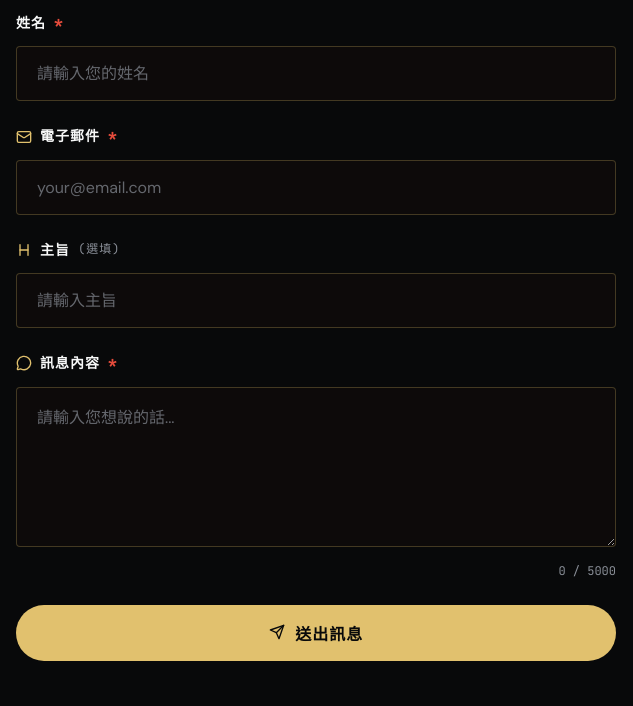
Test: ContactForm › 表單驗證 › 無效的 email 格式應該顯示錯誤
Step 1. Type "測試者" into the field with id "name" → [316, 74], box left=16, top=46, right=616, bottom=101
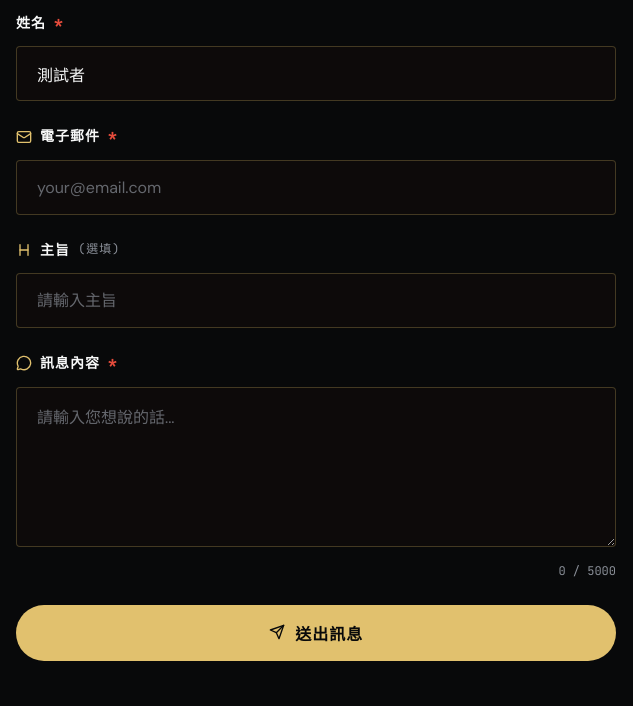
Step 2. Type "invalid-email" into the field with id "email" → [316, 187], box left=16, top=160, right=616, bottom=215
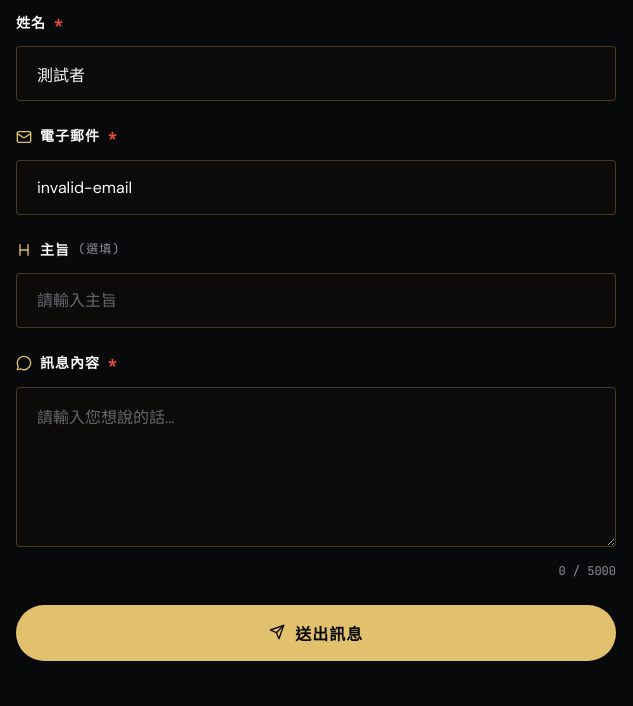
Step 3. Type "這是一段測試訊息內容" into the text box with id "message" → [316, 467], box left=16, top=387, right=616, bottom=547
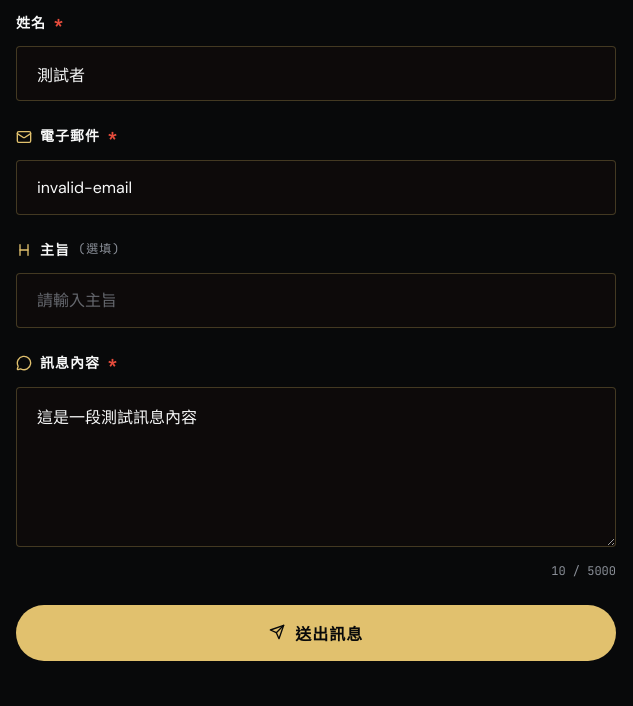
Step 4. Submit the form
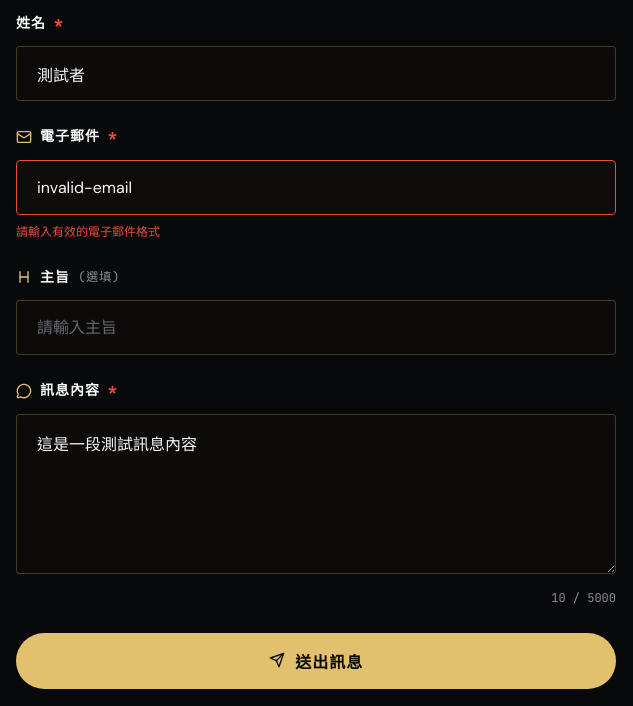
Expected: the form shows "請輸入有效的電子郵件格式", left=16, top=224, right=160, bottom=240
